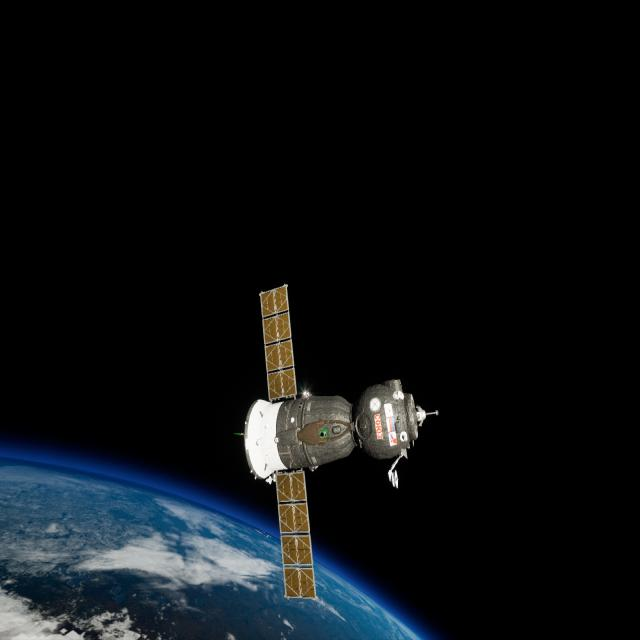Satellites revolving around earth: (238, 278, 440, 602)
